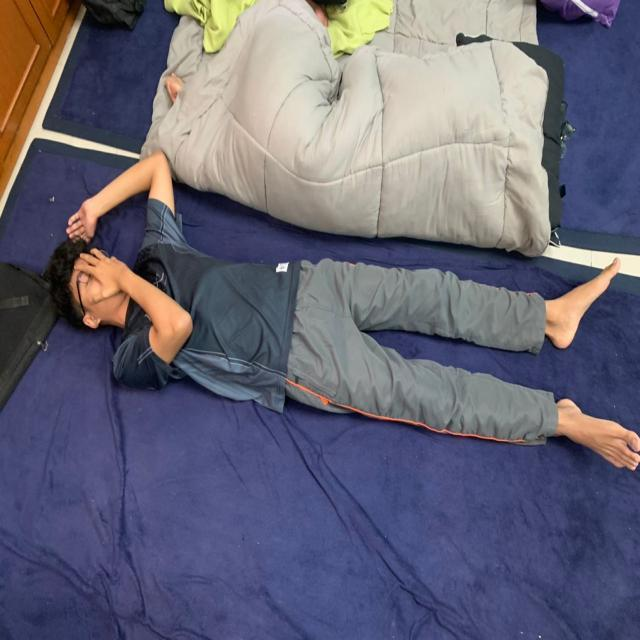fall: (48, 153, 632, 464)
